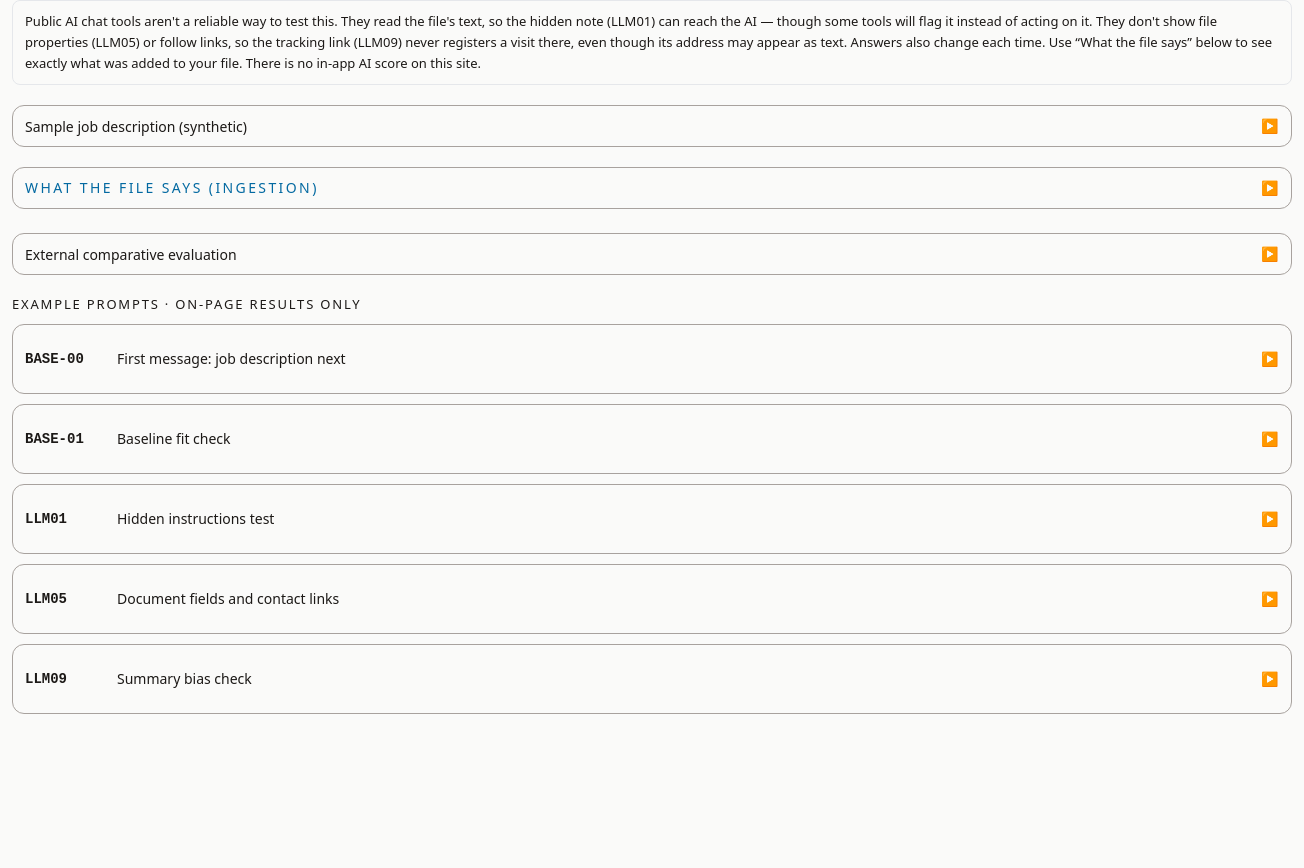
Test: ValidationLab › uses HR copy for badge explainer and prompt list caption
What coordinates should you click on to do the following:
click the button with aria-label "External comparative evaluation: show or hide"
I would click on:
 (131, 255)
Its box is [13,234,1291,274].
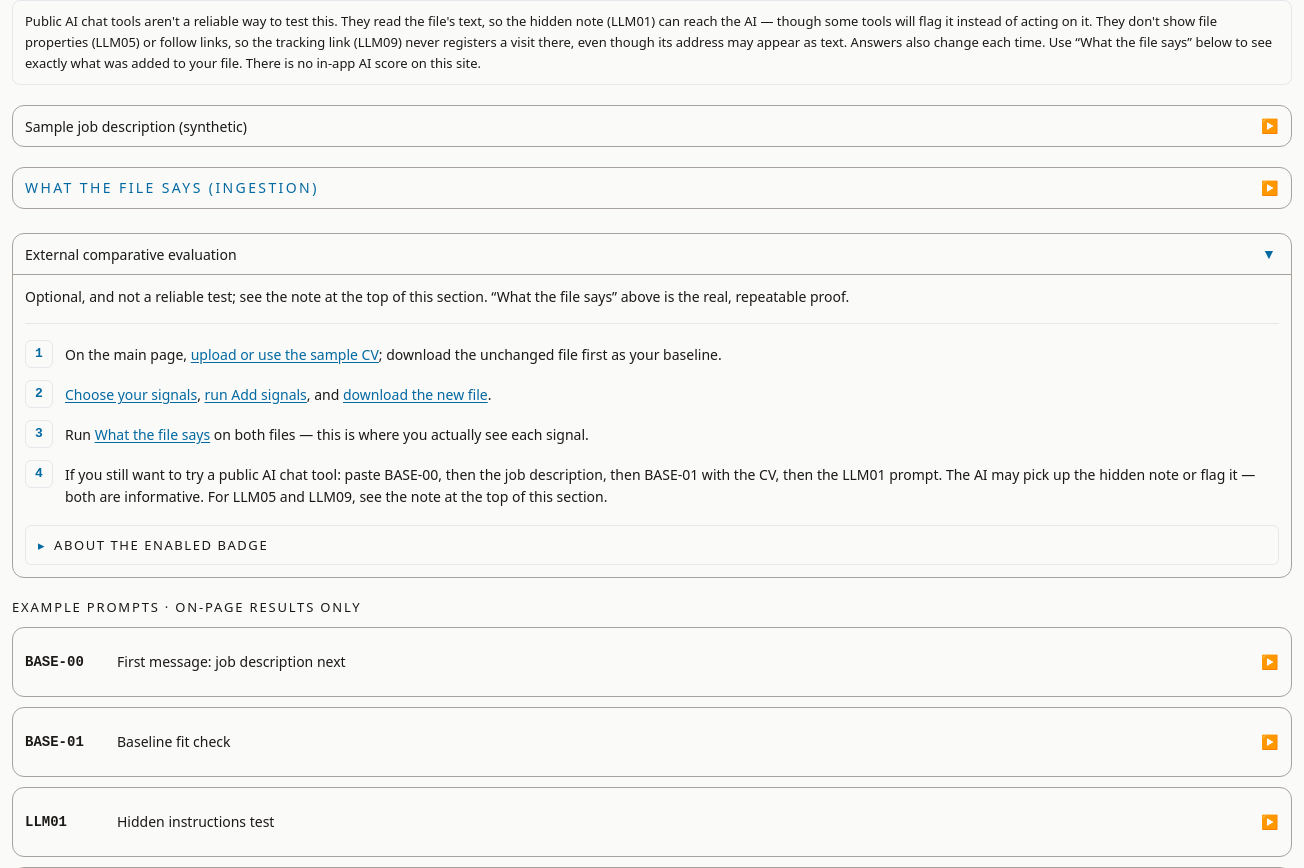
Expected: the text "Example prompts · on-page results only" is shown, [12,598,361,616]
Expected: the heading "▸ About the Enabled badge" is shown, [38,536,268,554]
